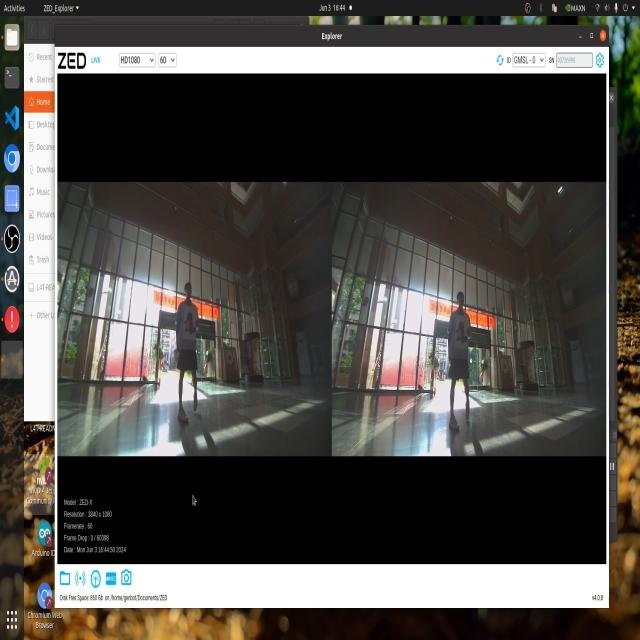blue: (452, 321, 478, 346), (191, 313, 195, 334)
